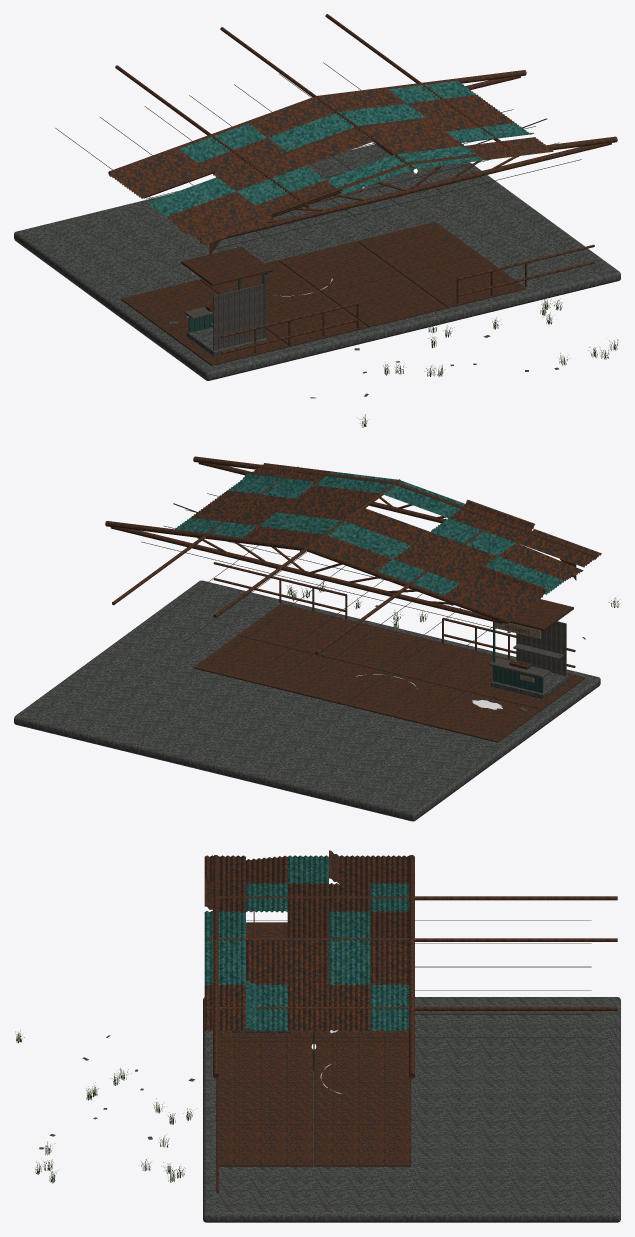
Rendered from SM_Env_Tile_m2_p1.fbx.
3 renders of one model, top to bottom at view 1: azimuth 30°, elevation 25°; view 2: azimuth 150°, elevation 25°; view 3: azimuth 270°, elevation 25°, orthographic. The views are drawn at different scales.
Visible parts, largest first — view 1: SM_Env_Tile_m2_p1; view 2: SM_Env_Tile_m2_p1; view 3: SM_Env_Tile_m2_p1.
Part boxes in pixels (x1,y1,x2,y2): SM_Env_Tile_m2_p1: [14, 14, 620, 427]; SM_Env_Tile_m2_p1: [14, 456, 619, 821]; SM_Env_Tile_m2_p1: [15, 850, 620, 1222].
Size of what is drawn, in the model's own units: 1588 by 1858 by 599.
Materials: 13 (9 with a texture image).
